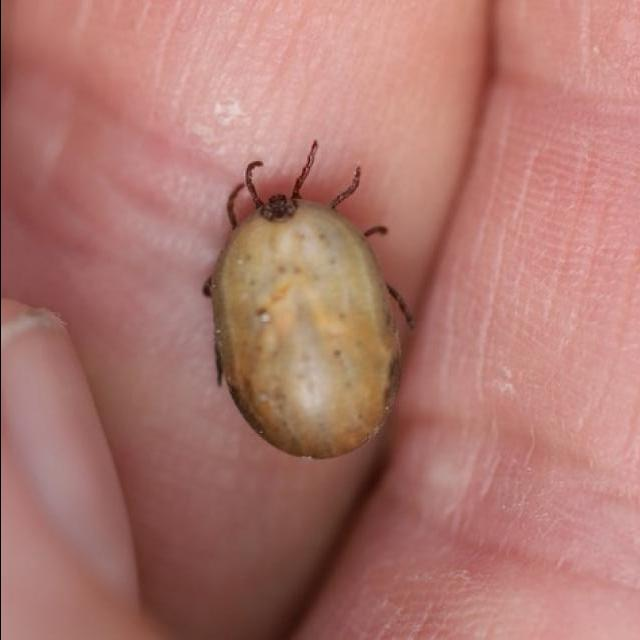Dermacentor Reticulatus-F-Fed: (203, 143, 413, 460)
